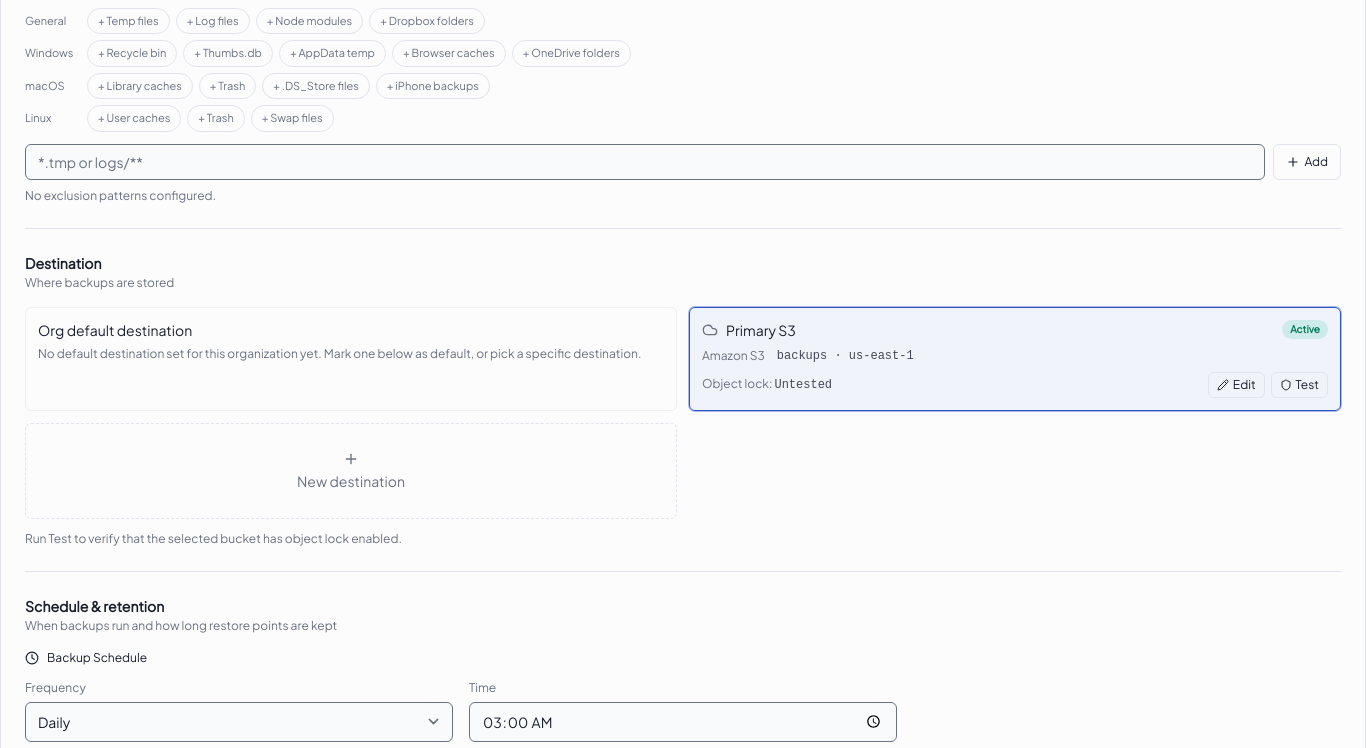
BackupTab › enables provider immutability after a successful capability retest
(page scrolled)
Check: the text "Primary S3" is shown, box top-left (726, 320), bottom-right (796, 340)
Click the button "Test" at (1299, 384), box top-left (1270, 372), bottom-right (1328, 398)
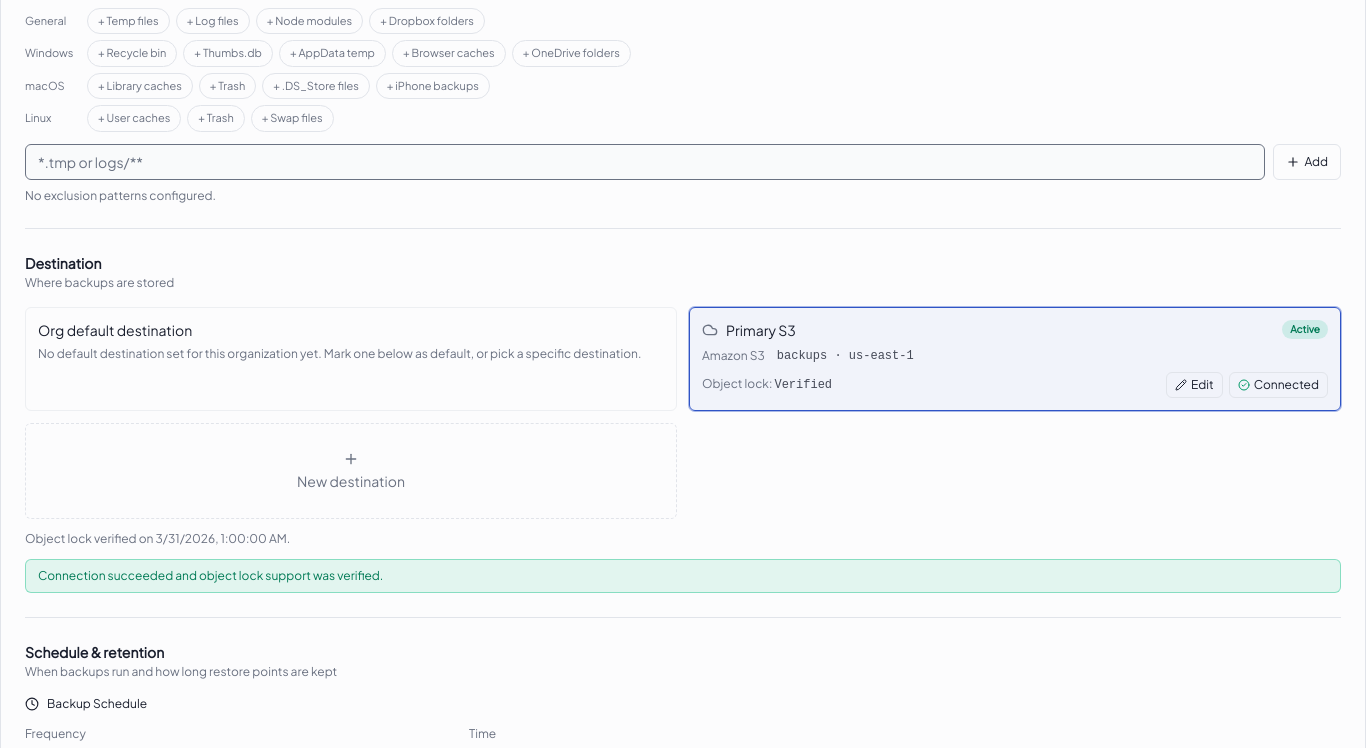
Check: the text "Connection succeeded and object lock support was verified." is shown, box top-left (25, 558), bottom-right (1341, 592)
